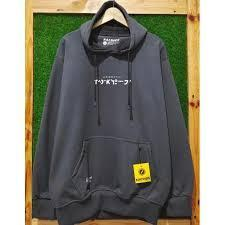sweater: (24, 5, 197, 224)
